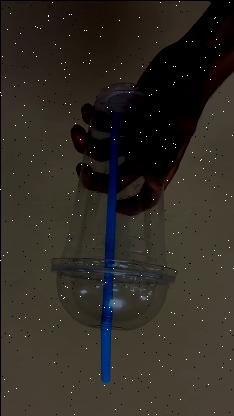Others: (48, 82, 176, 362)
